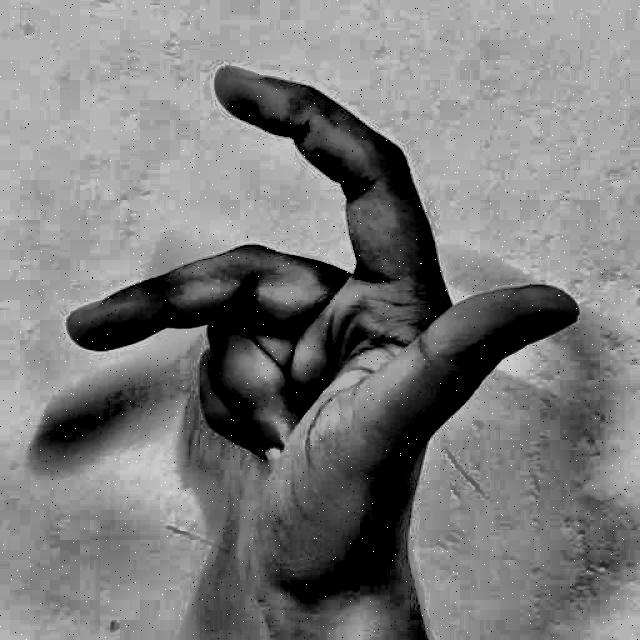Da: (36, 39, 596, 590)
